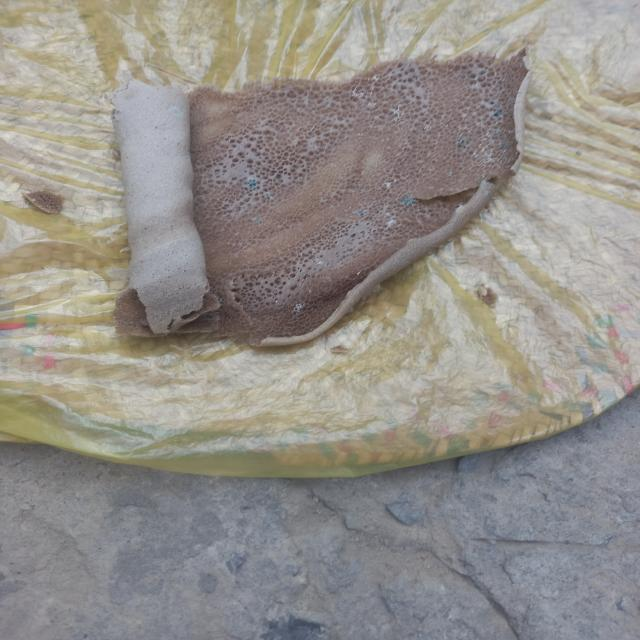injera_mold: (474, 144, 496, 165), (499, 143, 518, 165), (389, 103, 406, 123), (289, 300, 307, 316), (350, 86, 374, 98), (397, 194, 415, 206), (366, 73, 383, 83), (383, 218, 397, 230), (454, 137, 470, 147), (246, 179, 258, 189), (214, 296, 223, 308), (171, 108, 182, 116), (252, 216, 263, 224), (492, 108, 503, 116), (355, 210, 366, 217), (263, 191, 273, 198), (491, 129, 501, 136), (385, 182, 393, 188), (330, 162, 337, 168), (316, 260, 324, 265), (357, 132, 364, 137), (360, 188, 366, 193), (356, 271, 362, 276), (448, 171, 453, 176), (490, 101, 495, 105), (394, 179, 397, 182)
